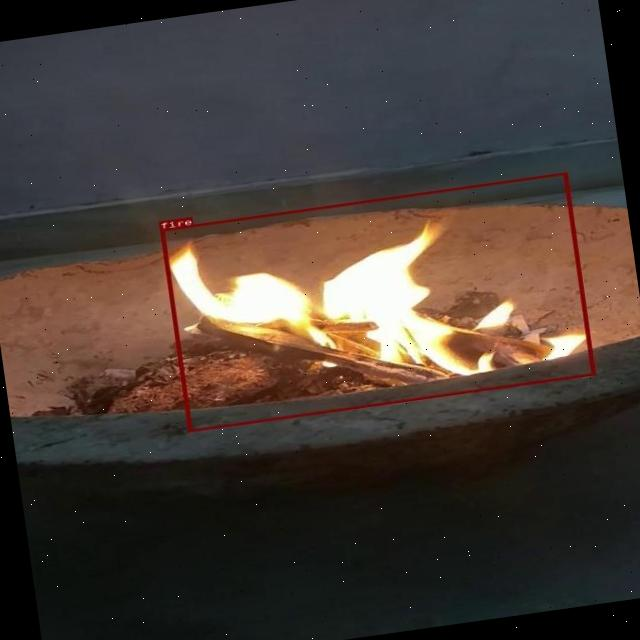fire: (160, 172, 594, 432)
